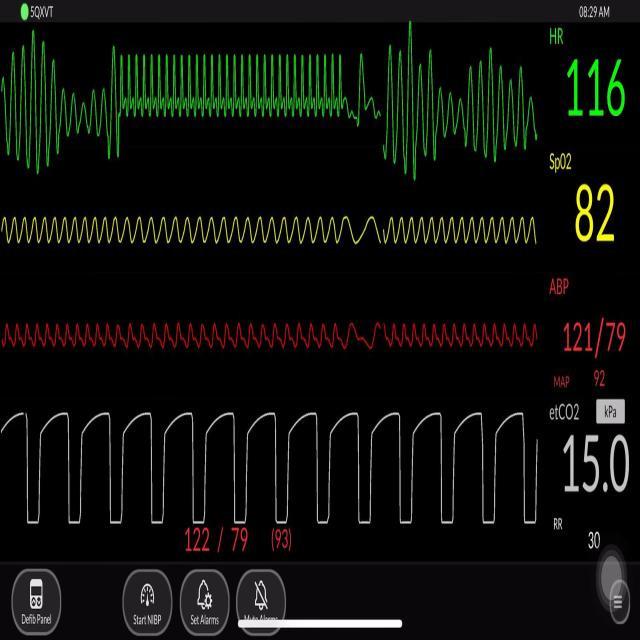danger: (384, 20, 544, 182), (119, 42, 344, 125), (2, 29, 66, 187)
